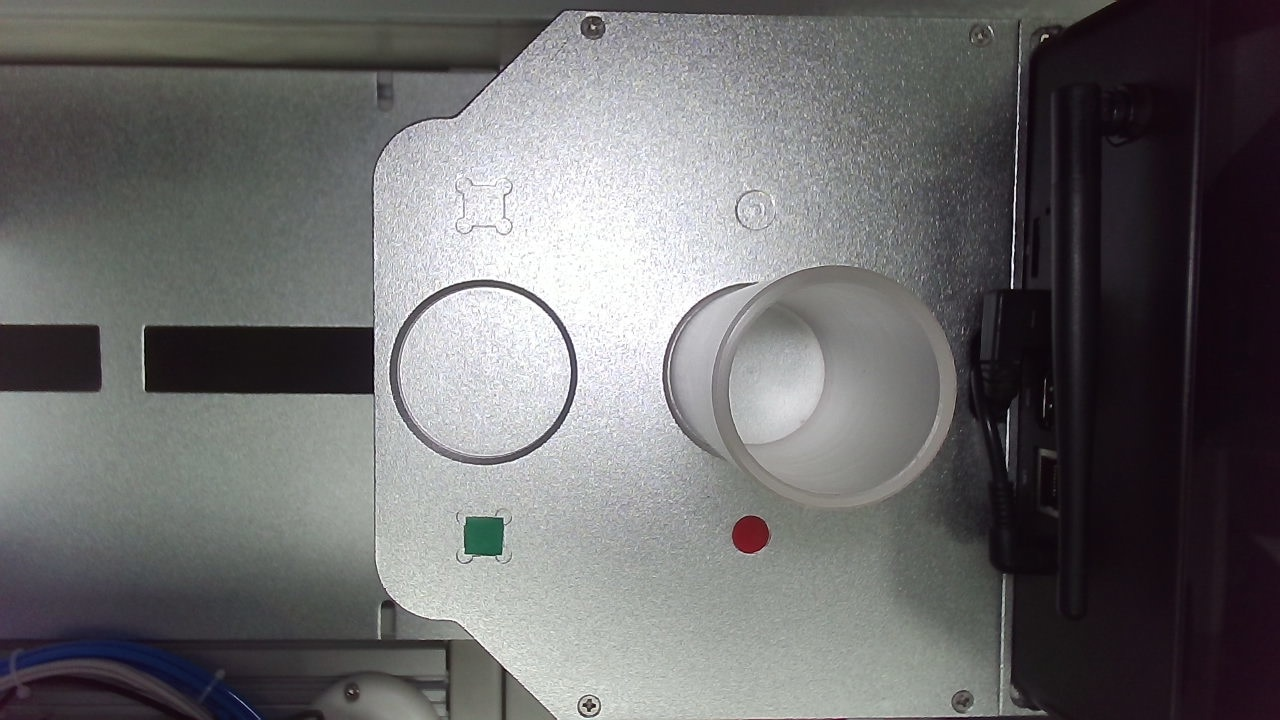XLabel: (718, 224, 752, 257)
YLabel: (500, 220, 535, 255)
none: (652, 292, 814, 455)
transparenexcept: (371, 250, 594, 457)
